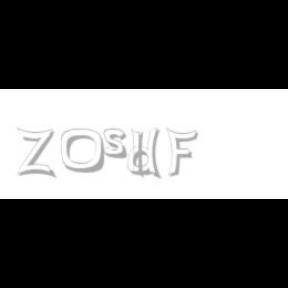F: (166, 128, 198, 178)
O: (60, 128, 106, 174)
Z: (16, 128, 54, 178)
d: (128, 128, 164, 180)
l: (132, 128, 148, 180)
s: (103, 128, 131, 160)
